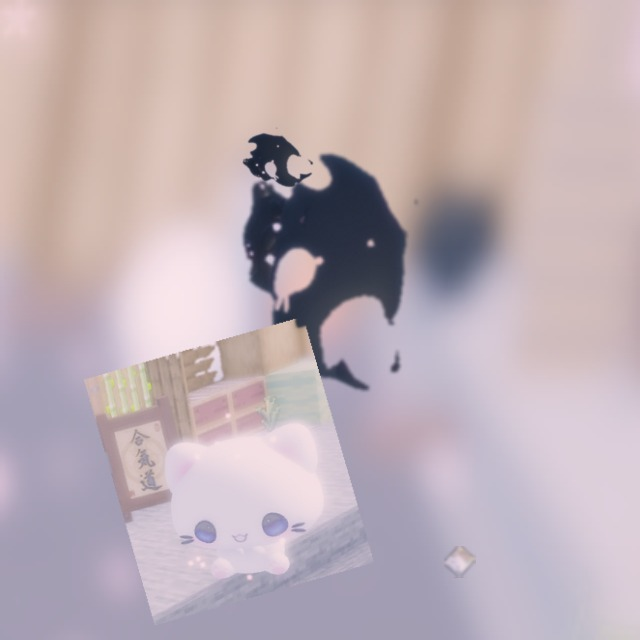urso_branco: (83, 316, 375, 626), (444, 546, 476, 578)
urso_preto: (217, 113, 444, 428), (221, 108, 333, 213)
